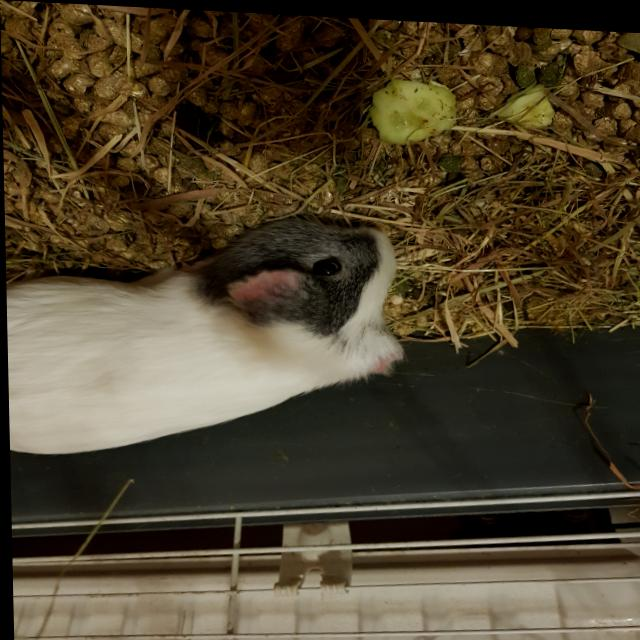guinea pig: (3, 197, 408, 475)
